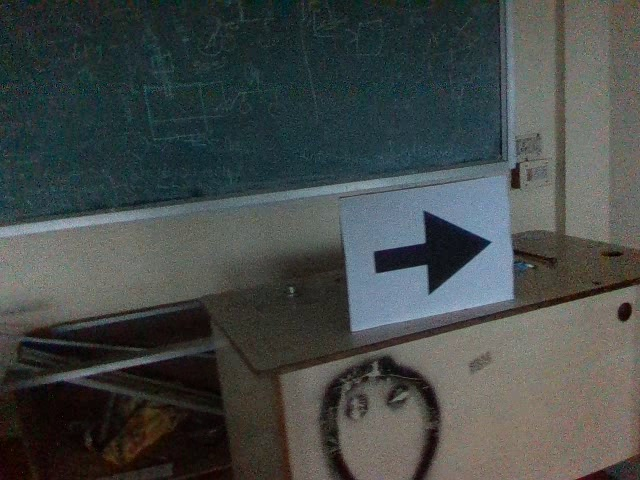Right: (367, 205, 494, 300)
